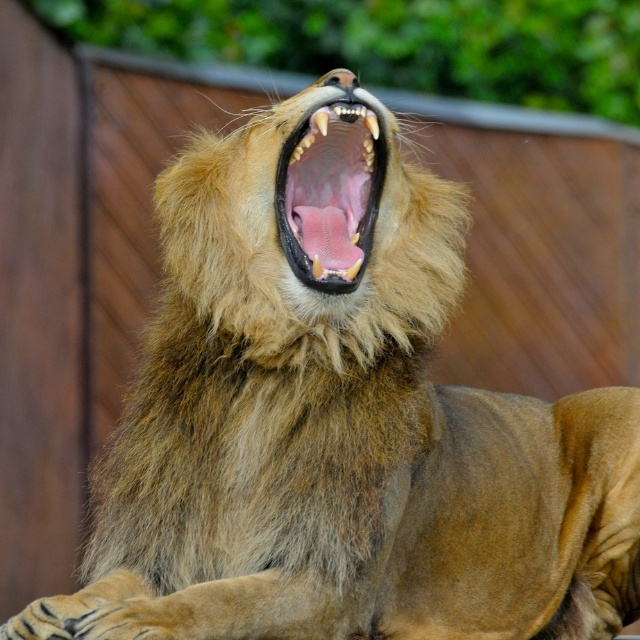Lion: (0, 66, 640, 640)
